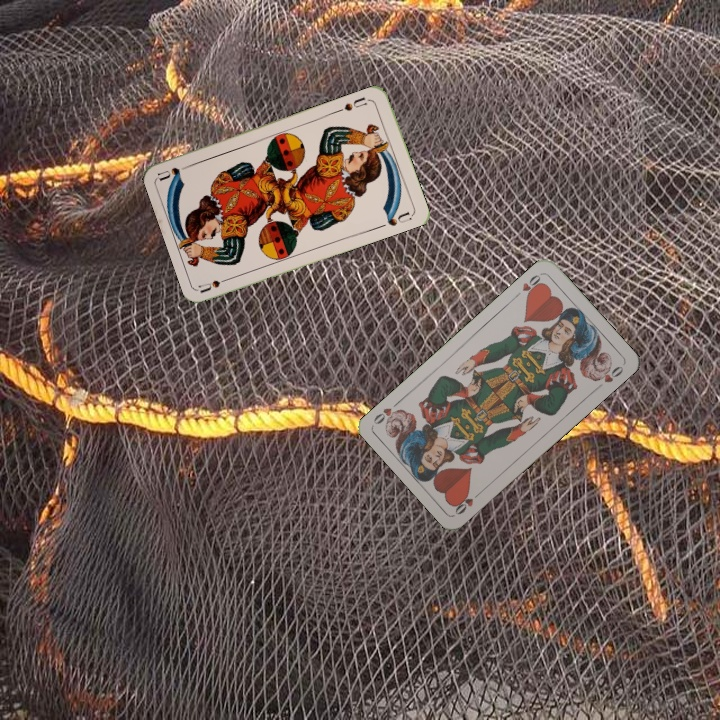HO: (511, 269, 545, 301), (451, 486, 485, 517)
SU: (196, 273, 236, 295), (334, 93, 373, 115)
